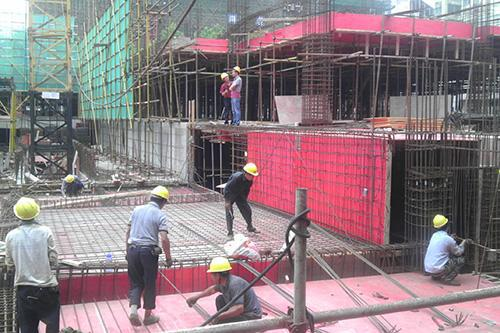helmet: (9, 194, 41, 228), (206, 254, 235, 284), (149, 182, 171, 209), (431, 210, 451, 234), (242, 161, 259, 182), (231, 63, 242, 79), (65, 172, 77, 186), (220, 70, 230, 82)
